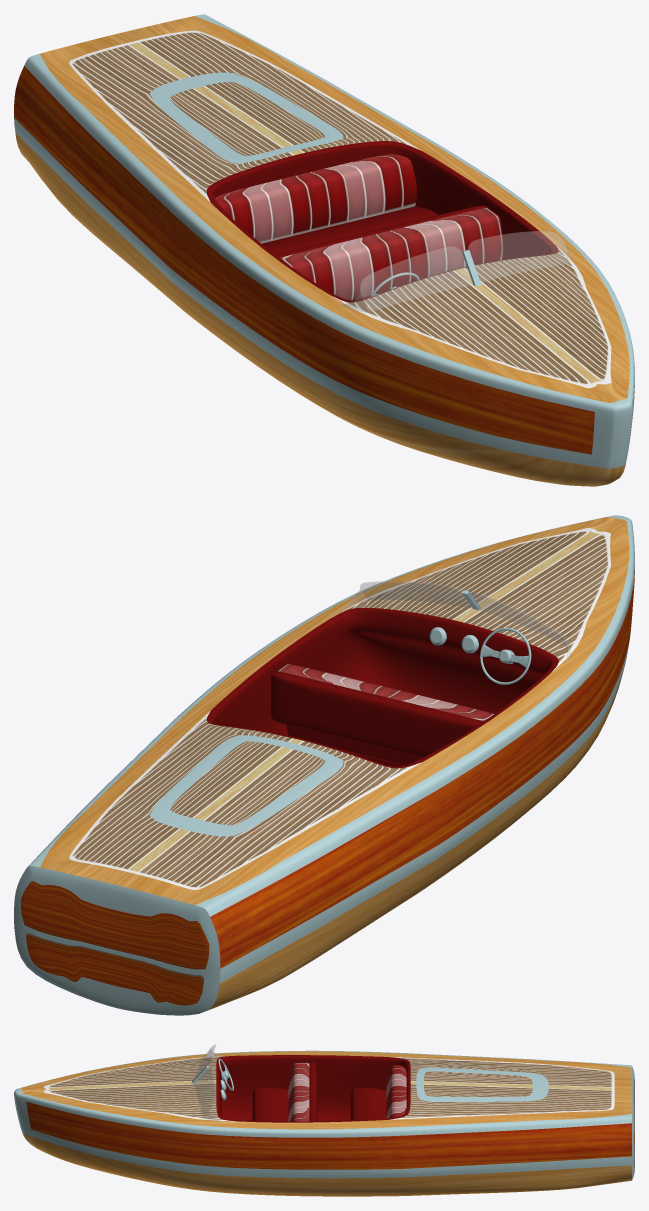
The model's file is boat.glb.
3 renders of one model, top to bottom at view 1: azimuth 30°, elevation 25°; view 2: azimuth 150°, elevation 25°; view 3: azimuth 270°, elevation 25°, orthographic. The views are drawn at different scales.
Parts seen in each view (by area): view 1: 10634_SpeedBoat_v01_LOD3; view 2: 10634_SpeedBoat_v01_LOD3; view 3: 10634_SpeedBoat_v01_LOD3.
Part boxes in pixels (x1,y1,x2,y2): 10634_SpeedBoat_v01_LOD3: [14, 14, 634, 486]; 10634_SpeedBoat_v01_LOD3: [14, 515, 634, 1015]; 10634_SpeedBoat_v01_LOD3: [14, 1044, 634, 1196].
Size of the model in its own units: 13.95 by 9.26 by 44.25.
Materials: 2 (1 with a texture image).
